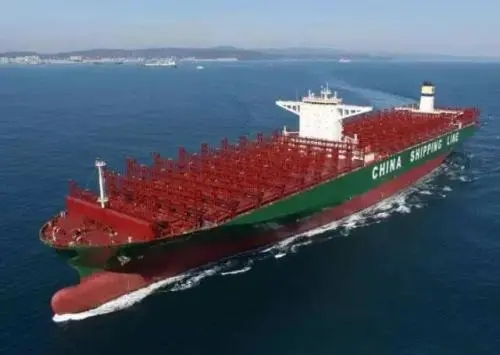Cargoship: (39, 71, 481, 317)
